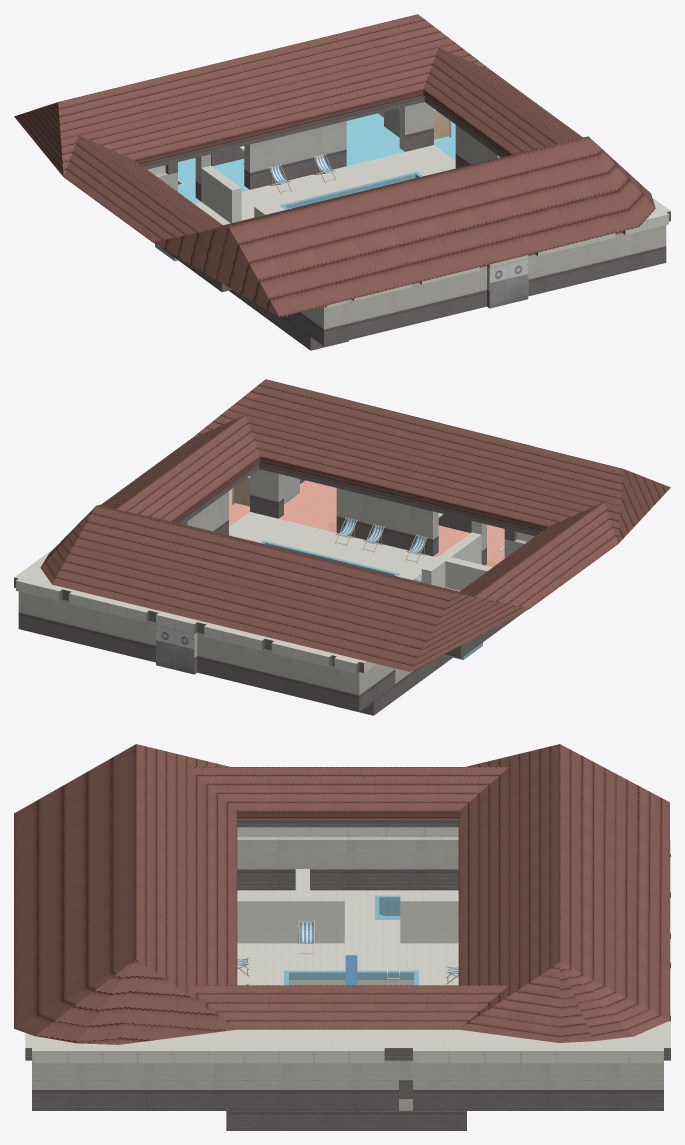
Rendered from Pool.fbx.
3 renders of one model, top to bottom at view 1: azimuth 30°, elevation 25°; view 2: azimuth 150°, elevation 25°; view 3: azimuth 270°, elevation 25°, orthographic. The views are drawn at different scales.
Parts seen in each view (by area): view 1: Main, Props; view 2: Main, Props; view 3: Main, Props.
Boxes of the visible parts, x1,y1,x2,y2 form: Main: (14,14,670,350); Props: (178,108,583,298); Main: (14,379,670,715); Props: (232,475,504,591); Main: (14,744,670,1130); Props: (237,920,458,985).
Size of the model in its own units: 2995 by 958 by 3143.
